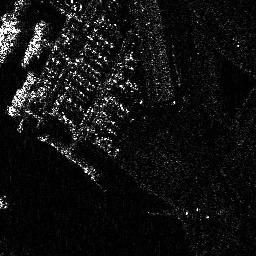ship: (21, 18, 50, 66), (9, 74, 37, 115)
